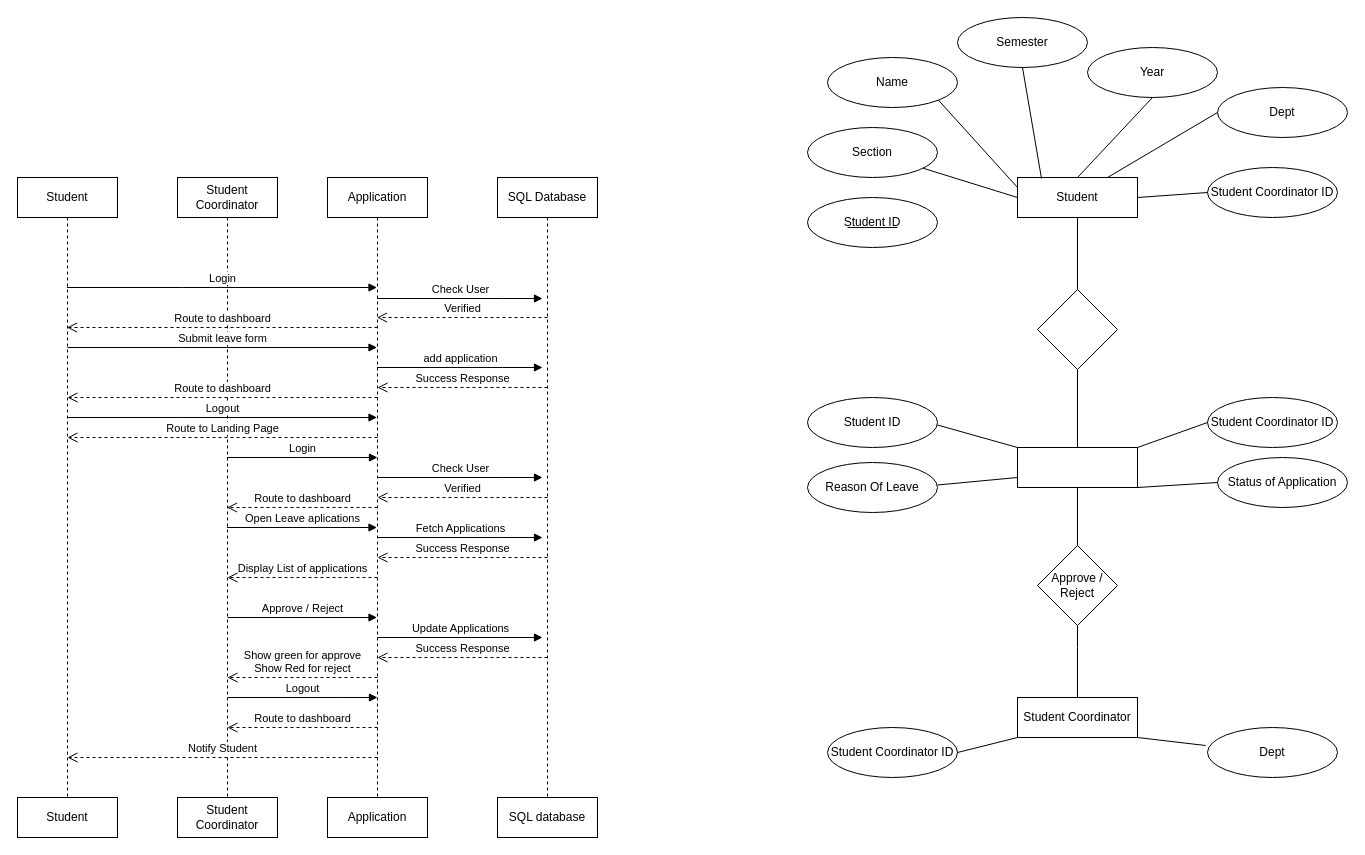
Image size: 1365x855. Some labels were removed from this diagram. The centre of each missing label's shape, as x and y in pixels:
Apply: pixel 1077 329
Leave: pixel 1077 467
